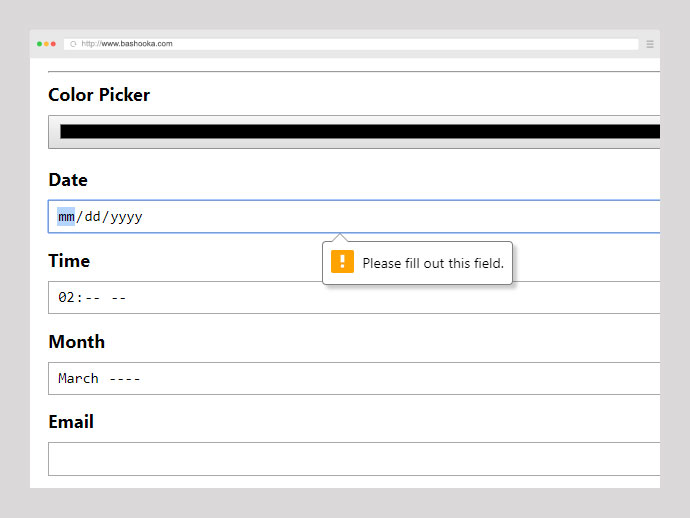field: (45, 438, 662, 479), (46, 278, 661, 317), (45, 358, 662, 396), (47, 199, 661, 236)
